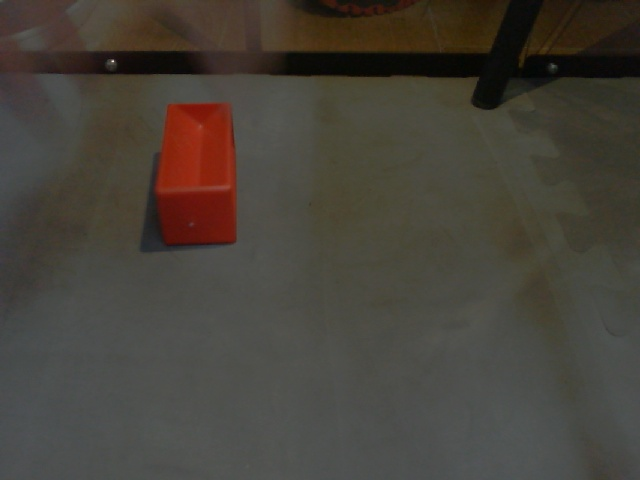RedSample: (151, 92, 241, 249)
